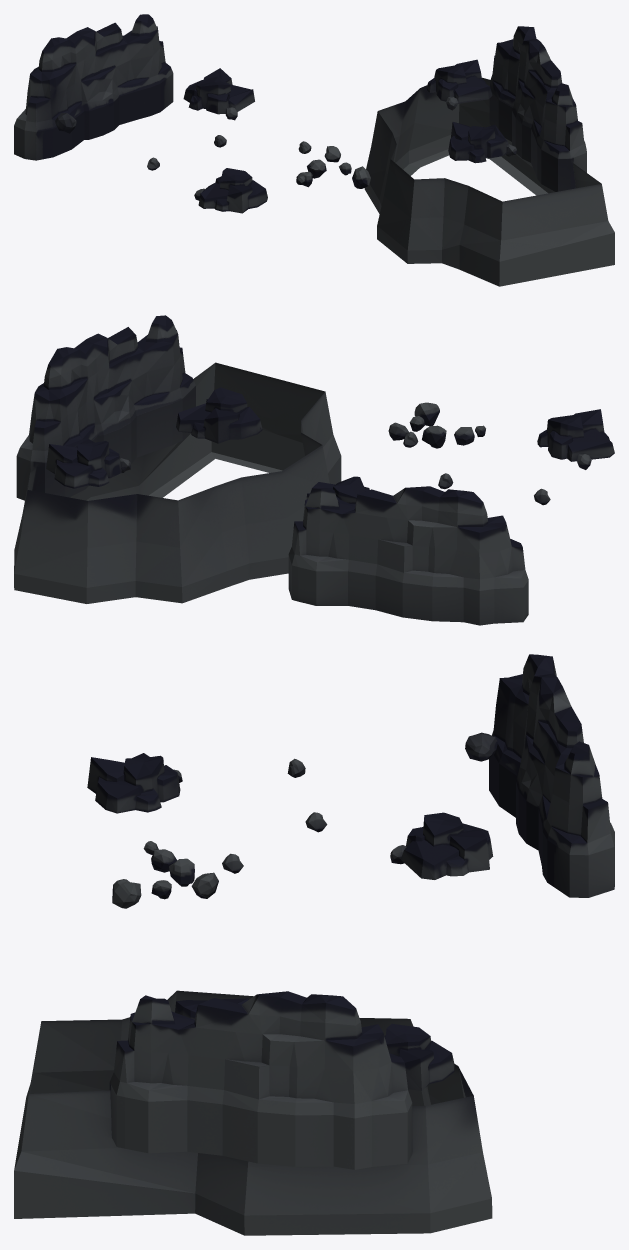
The model's file is Wall_01.FBX.
3 renders of one model, top to bottom at view 1: azimuth 30°, elevation 25°; view 2: azimuth 150°, elevation 25°; view 3: azimuth 270°, elevation 25°, orthographic. The views are drawn at different scales.
Parts seen in each view (by area): view 1: Wall_01; view 2: Wall_01; view 3: Wall_01.
Boxes of the visible parts, left/top/right/bottom form: Wall_01: left=14, top=14, right=614, bottom=286; Wall_01: left=14, top=315, right=614, bottom=625; Wall_01: left=14, top=654, right=614, bottom=1235.
Bounding box in the file's own units: 39.51 × 15.37 × 29.4.
